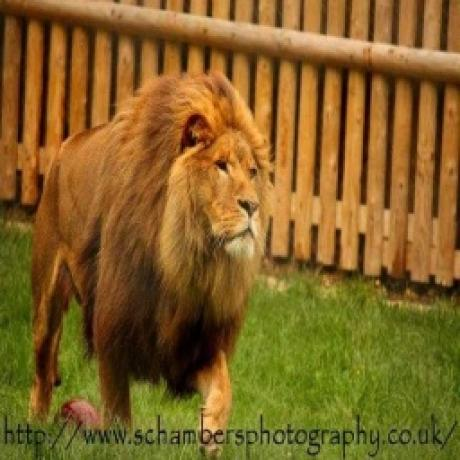Lion: (29, 64, 273, 444)
